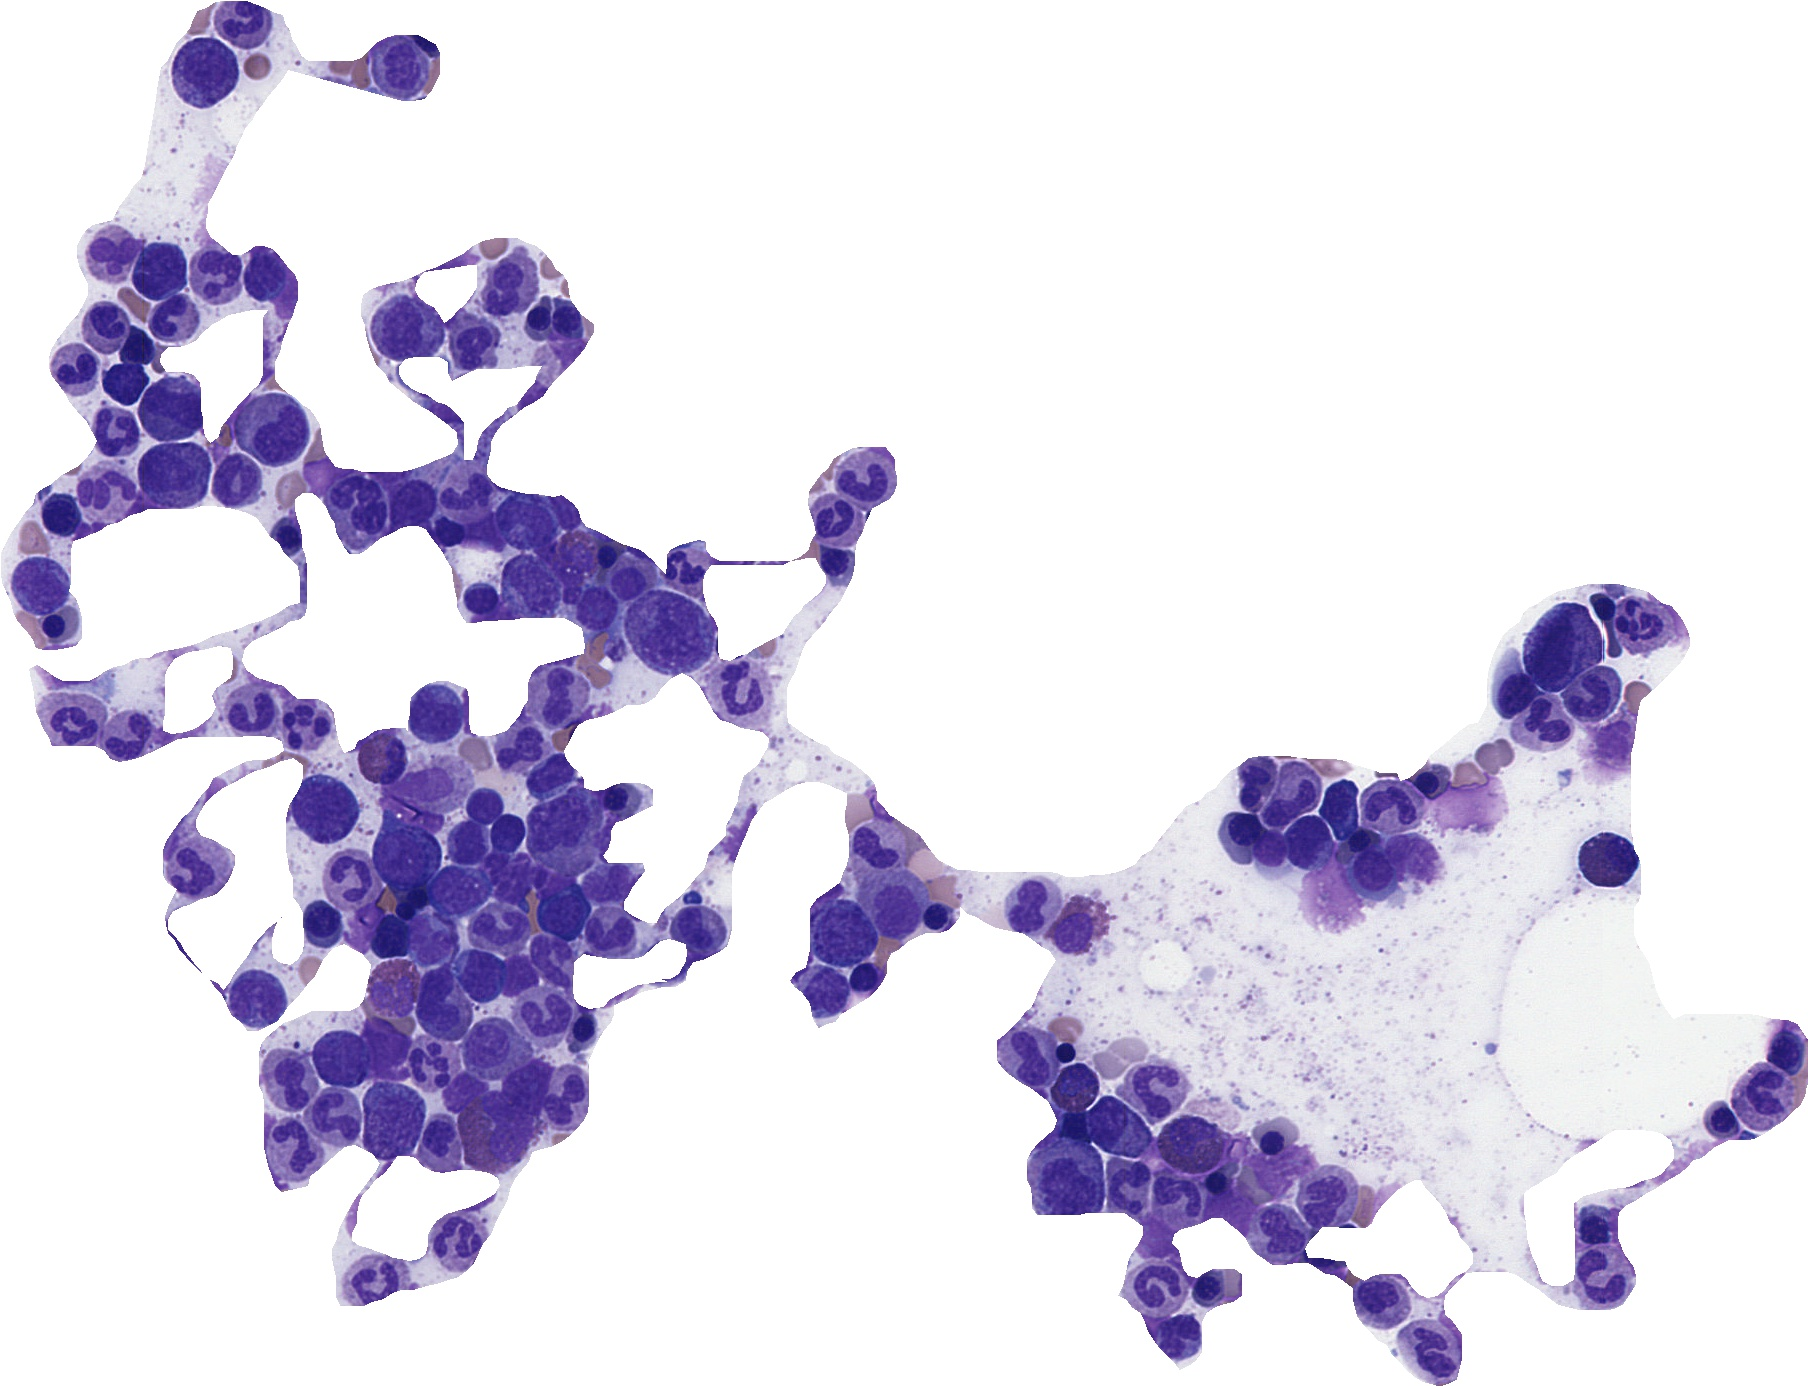objectness: (1571, 673, 1622, 724), (493, 729, 544, 780), (662, 544, 713, 595), (526, 930, 576, 981), (1044, 1152, 1095, 1203), (817, 908, 868, 959), (536, 887, 587, 938), (838, 951, 889, 1002), (1333, 817, 1384, 868), (362, 1018, 413, 1069), (392, 874, 443, 924), (1448, 775, 1499, 825), (544, 558, 595, 609), (485, 804, 536, 855), (1405, 756, 1456, 807), (913, 890, 964, 940), (31, 601, 82, 652), (873, 879, 923, 930), (402, 916, 451, 967), (798, 967, 849, 1016), (76, 304, 127, 354), (1156, 1168, 1205, 1219), (1614, 595, 1664, 646), (1312, 1171, 1363, 1220), (191, 252, 242, 301), (1518, 697, 1569, 747), (844, 459, 894, 510), (310, 1090, 360, 1141), (146, 294, 197, 344), (266, 1121, 317, 1171), (1402, 1323, 1451, 1374), (483, 261, 534, 310), (1229, 759, 1278, 809), (84, 229, 134, 280), (1365, 775, 1415, 825), (533, 670, 582, 721), (333, 478, 383, 528), (146, 381, 195, 432), (178, 48, 229, 98), (467, 1023, 517, 1074), (378, 300, 429, 349), (368, 964, 419, 1013), (1163, 1120, 1213, 1171), (358, 732, 408, 783), (855, 820, 904, 871), (250, 400, 300, 451), (587, 906, 636, 957), (262, 1056, 312, 1106), (678, 906, 728, 957), (376, 41, 425, 92), (411, 690, 461, 740), (499, 495, 550, 544), (429, 863, 479, 914), (502, 561, 552, 611), (293, 779, 344, 828), (1133, 1210, 1183, 1259), (472, 841, 521, 892), (505, 1058, 555, 1109), (590, 622, 641, 671), (234, 970, 284, 1021), (1585, 719, 1636, 769), (1245, 825, 1296, 875), (408, 757, 459, 807), (523, 753, 574, 802), (112, 322, 162, 373), (440, 820, 491, 869), (237, 250, 288, 300), (376, 887, 425, 938), (437, 1066, 486, 1117), (296, 447, 346, 496), (365, 911, 416, 961), (496, 951, 546, 1002), (1304, 869, 1355, 919), (454, 574, 504, 625), (592, 777, 643, 827), (1697, 1095, 1748, 1144), (809, 531, 859, 582), (35, 491, 84, 542), (1213, 808, 1264, 858), (297, 895, 346, 946), (263, 511, 314, 561), (558, 1006, 608, 1056), (543, 296, 592, 346), (512, 294, 563, 344), (539, 809, 590, 859), (643, 606, 693, 657), (1154, 1310, 1204, 1360), (578, 862, 627, 911), (1135, 1262, 1185, 1312), (1268, 775, 1317, 824), (345, 1255, 394, 1304), (278, 700, 328, 750), (440, 469, 489, 518), (93, 416, 143, 466), (542, 1072, 591, 1121), (1103, 1162, 1153, 1211), (1128, 1058, 1178, 1108), (44, 697, 93, 747), (514, 993, 563, 1042), (437, 1216, 486, 1265), (1577, 1252, 1626, 1302), (712, 668, 761, 718), (406, 1037, 456, 1086), (105, 712, 154, 761), (812, 496, 862, 546), (1735, 1072, 1785, 1121), (226, 687, 275, 737), (51, 357, 100, 406), (170, 849, 220, 898), (451, 319, 501, 368), (79, 469, 128, 518), (328, 856, 377, 906), (476, 904, 526, 954), (210, 460, 259, 510), (1095, 1105, 1144, 1155), (1581, 836, 1630, 885), (1051, 901, 1101, 951), (1048, 1063, 1098, 1112), (552, 527, 601, 577), (467, 1115, 517, 1165), (412, 1118, 461, 1168), (1006, 881, 1055, 930), (1252, 1207, 1301, 1256), (1007, 1034, 1057, 1083), (1355, 1275, 1405, 1325), (134, 246, 183, 296), (456, 951, 505, 1000), (1285, 820, 1335, 869), (377, 830, 427, 879), (314, 1035, 364, 1085), (13, 561, 63, 610), (390, 478, 440, 527), (1390, 831, 1440, 881), (607, 559, 657, 609), (1349, 849, 1399, 898), (569, 582, 619, 632), (1207, 1185, 1256, 1235), (332, 903, 381, 952), (463, 511, 512, 561), (1045, 1104, 1095, 1153), (100, 360, 150, 409), (1256, 1147, 1306, 1197), (1039, 1028, 1089, 1077), (422, 511, 472, 561), (493, 859, 543, 908), (662, 760, 712, 809), (1569, 1201, 1619, 1251), (418, 978, 467, 1028), (459, 780, 508, 830), (1485, 664, 1534, 713), (1581, 587, 1630, 636), (1248, 1112, 1297, 1162), (1183, 1265, 1233, 1315), (1192, 1159, 1242, 1208), (1536, 622, 1585, 671), (146, 448, 195, 498), (226, 0, 275, 45), (1764, 1025, 1808, 1074)
